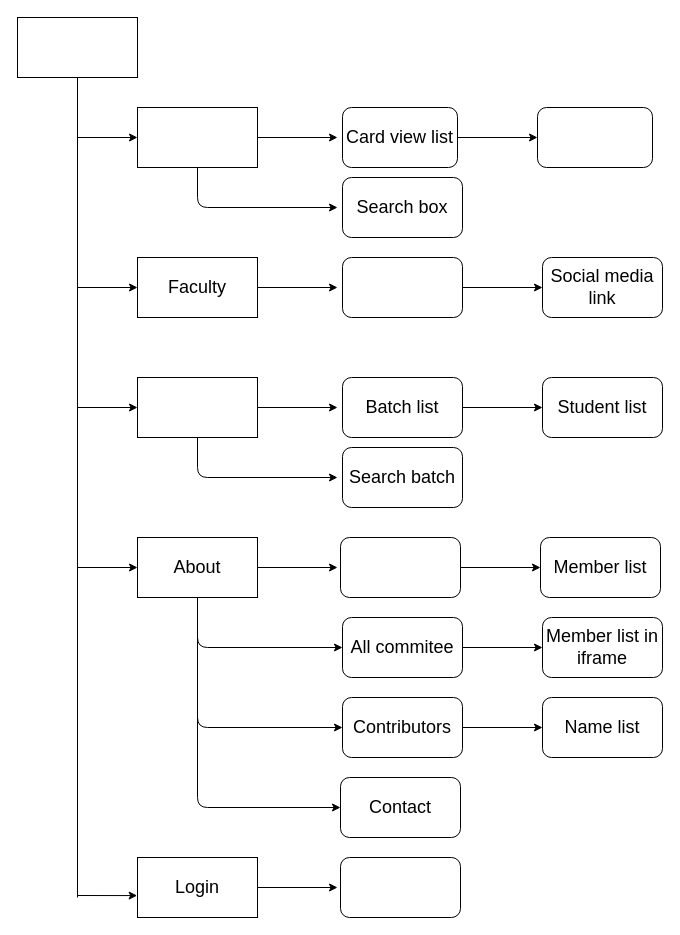
Some shapes in this 680 by 935 pixel diagram are drawn without their labels. Each missing label, with the centre of its shape:
"Batch" belongs at (x=197, y=407).
"Blog" belongs at (x=594, y=137).
"Faculty member" belongs at (x=402, y=287).
"Feeds" belongs at (x=197, y=137).
"Index" belongs at (x=77, y=47).
"Present commitee" belongs at (x=400, y=567).
"Username and password" belongs at (x=400, y=887).
